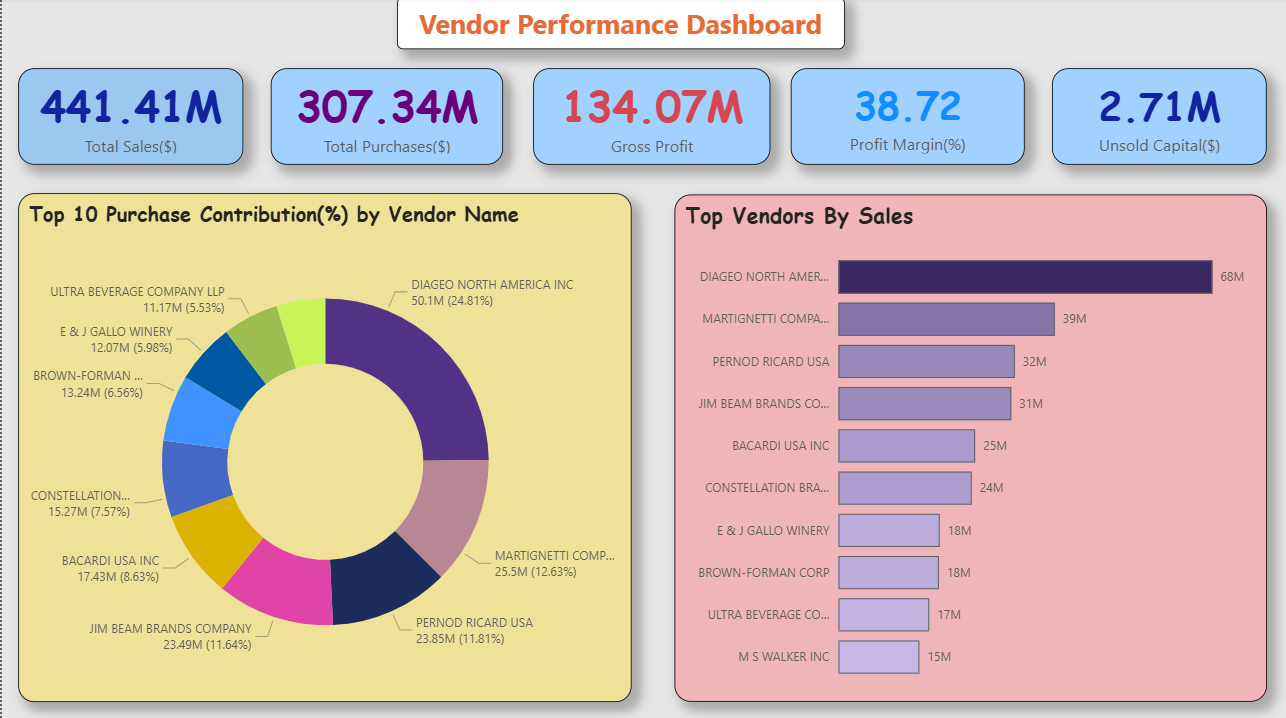

The page's visual inventory and layout, read from the dashboard file:
{"tool":"powerbi","page":{"name":"Visualization 1","canvas":[1280,720],"ordinal":0},"visuals":[{"type":"card","fields":{"Values":["Sum(vendor_sales_summary.TotalSalesDollars)"]},"box":[16.2,70.9,223.9,95.8],"z":0},{"type":"textbox","box":[393.1,0,445.3,52.2],"z":1000},{"type":"card","fields":{"Values":["Sum(vendor_sales_summary.TotalPurchaseDollars)"]},"box":[267.5,70.9,231.4,95.8],"z":2000},{"type":"card","fields":{"Values":["Sum(vendor_sales_summary.GrossProfit)"]},"box":[528.7,70.9,236.4,95.8],"z":3000},{"type":"card","fields":{"Values":["Avg(vendor_sales_summary.ProfitMargin)"]},"box":[784.9,70.9,232.6,95.8],"z":4000},{"type":"card","fields":{"Values":["Sum(vendor_sales_summary.Unsold Capital)"]},"box":[1044.9,70.9,214,95.8],"z":5000},{"type":"donutChart","fields":{"Category":["Purchase Contribution.VendorName"],"Y":["Sum(Purchase Contribution.TotalPurchaseDollars)"]},"box":[16.2,195.3,610.8,506.3],"z":6000},{"type":"clusteredBarChart","title":"Top Vendors By Sales","fields":{"Category":["vendor_sales_summary.VendorName"],"Y":["Sum(vendor_sales_summary.TotalSalesDollars)"]},"box":[669.3,196.5,589.6,505],"z":7000}]}

Visuals, with their boxes in screenshot pixels (x1, y1, x2, y2), scaled from the page's 1280x720 canvas onto the 1286x718 screenshot:
card - Sum(vendor_sales_summary.TotalSalesDollars): <bbox>16, 71, 241, 166</bbox>
textbox: <bbox>395, 0, 842, 52</bbox>
card - Sum(vendor_sales_summary.TotalPurchaseDollars): <bbox>269, 71, 501, 166</bbox>
card - Sum(vendor_sales_summary.GrossProfit): <bbox>531, 71, 769, 166</bbox>
card - Avg(vendor_sales_summary.ProfitMargin): <bbox>789, 71, 1022, 166</bbox>
card - Sum(vendor_sales_summary.Unsold Capital): <bbox>1050, 71, 1265, 166</bbox>
donutChart - Purchase Contribution.VendorName x Sum(Purchase Contribution.TotalPurchaseDollars): <bbox>16, 195, 630, 700</bbox>
"Top Vendors By Sales" clusteredBarChart: <bbox>672, 196, 1265, 700</bbox>
